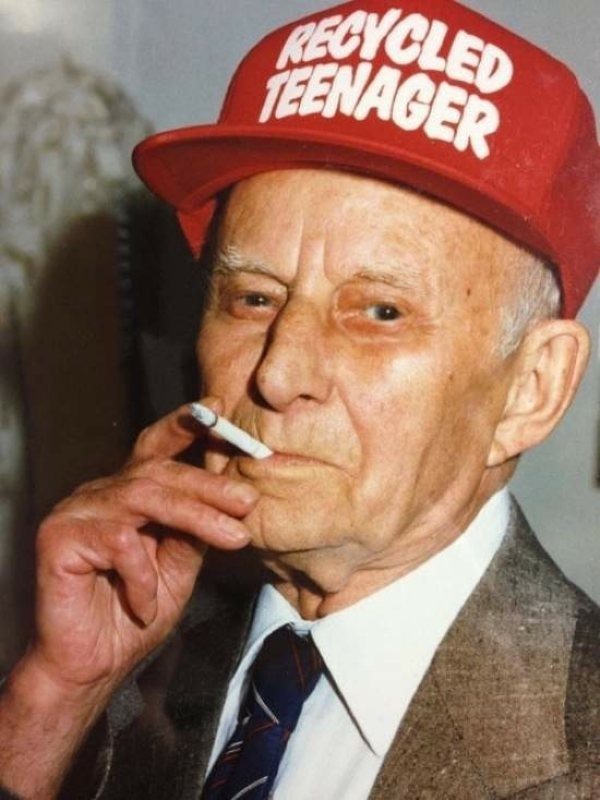cigarette: (184, 398, 272, 457)
